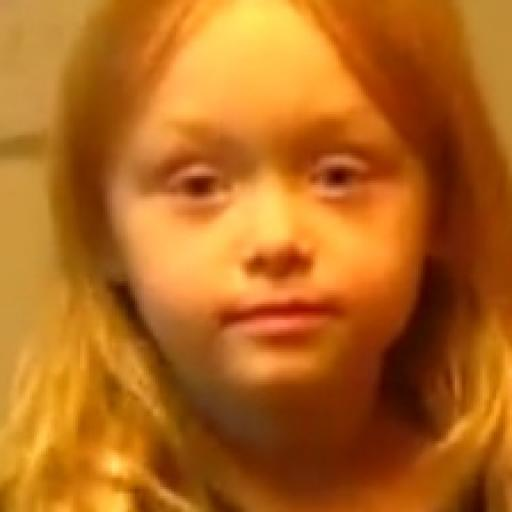Autism: (49, 0, 512, 440)
